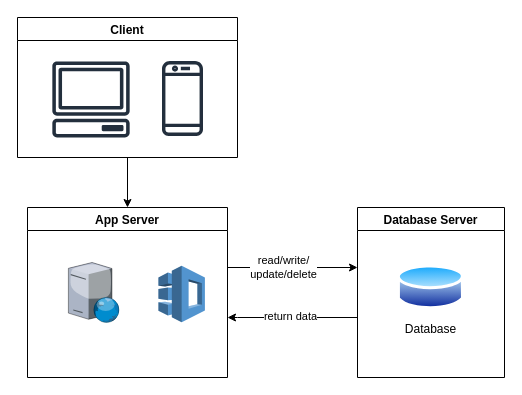
This 522x395 diagram has some shape labels left out. Each missing label, with the centre of its shape:
"Application" belongs at point 181,293.
"Web server" belongs at point 93,292.
